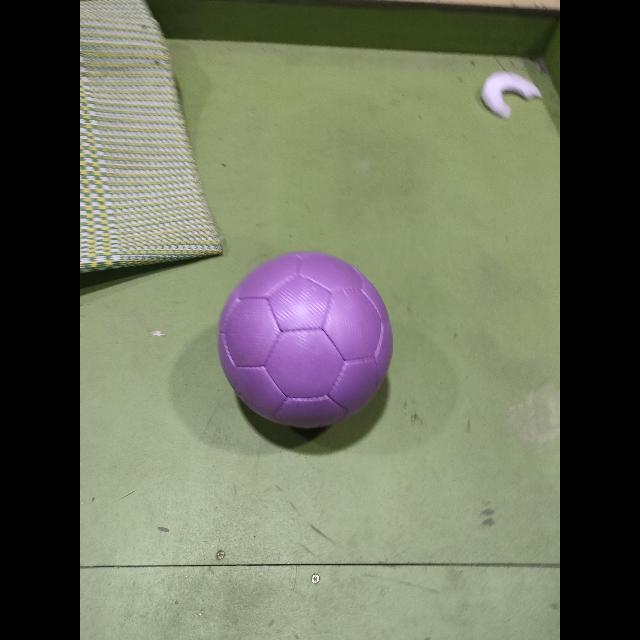P: (218, 252, 392, 428)
